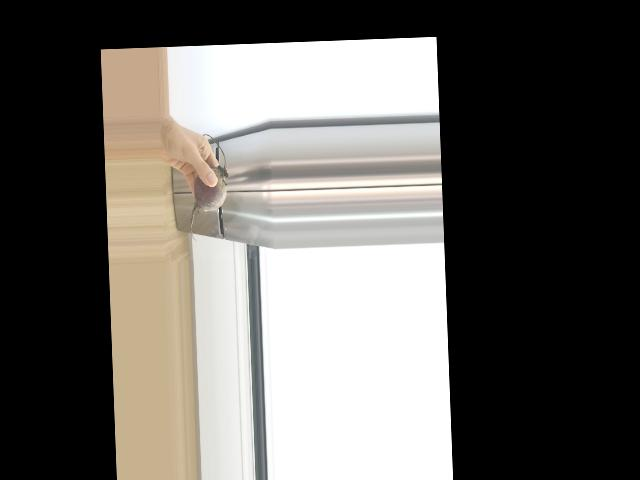beet: (186, 134, 230, 242)
